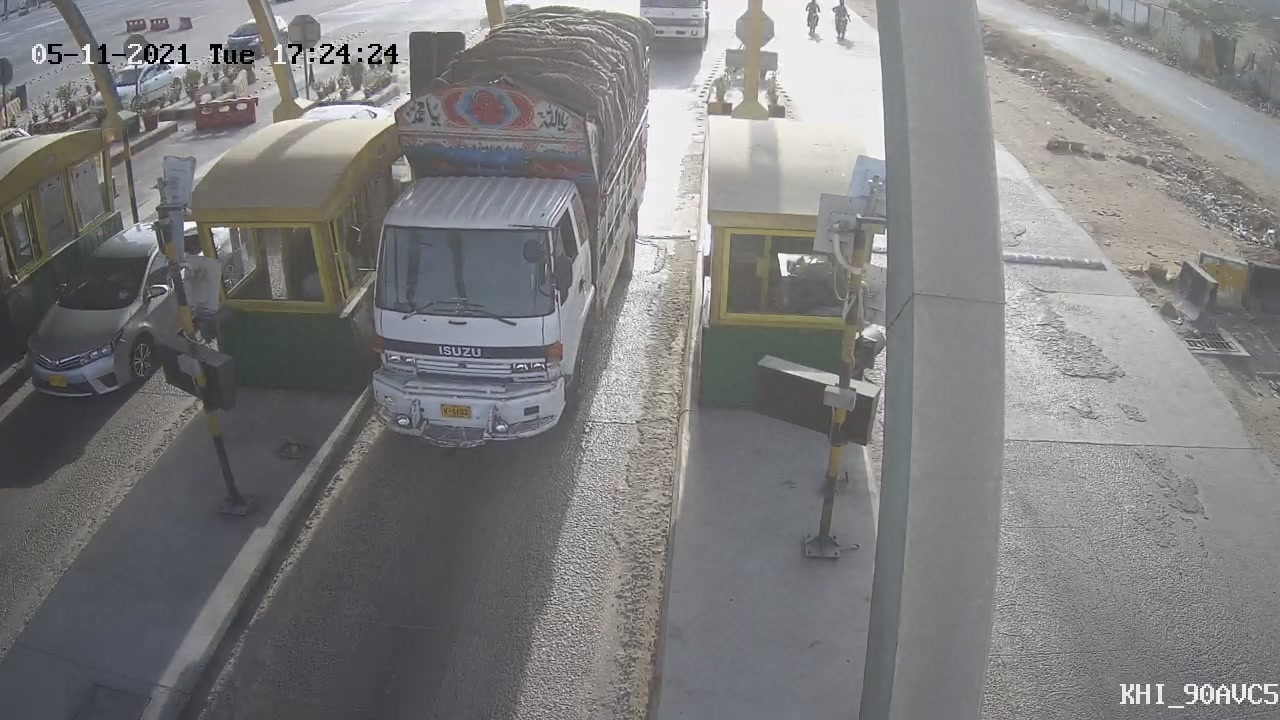F5: (322, 1, 686, 486)
